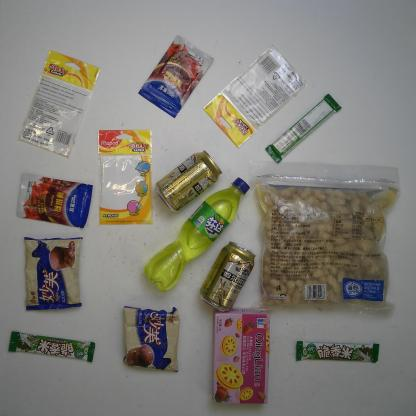Alcohol: (155, 148, 223, 219), (202, 238, 257, 321)
Chocolate: (263, 91, 354, 173), (3, 326, 101, 368), (294, 337, 381, 367)
Dessert: (200, 306, 279, 408), (17, 231, 85, 316), (121, 302, 184, 378)
Dried Food: (246, 158, 408, 318)
Drink: (140, 174, 252, 298)
Seasoner: (136, 31, 219, 122), (15, 170, 94, 239)
Stationery: (204, 42, 310, 151), (18, 49, 108, 162), (91, 124, 170, 228)
